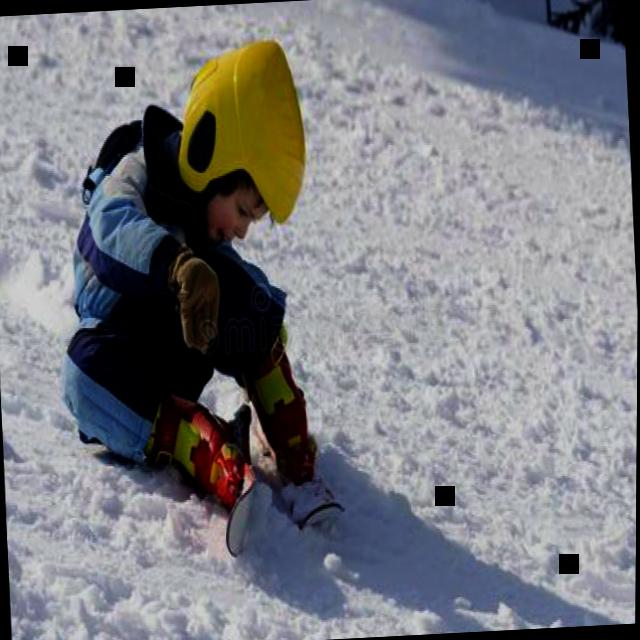Fall-Detected: (38, 12, 362, 566)
